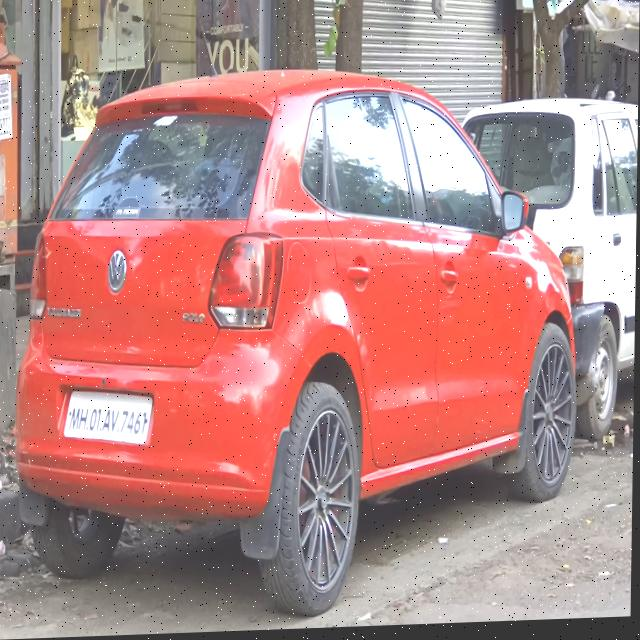plate: (66, 388, 154, 452)
